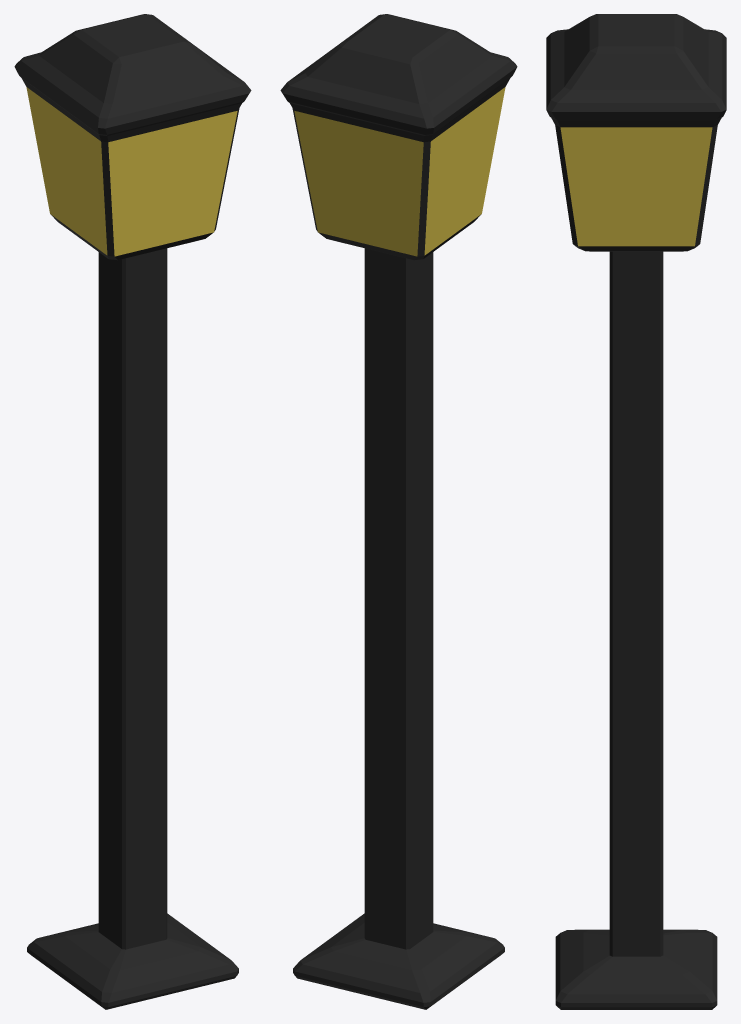
File: farola_anastasia.fbx
3 views of the same model, side by side, from view 1: azimuth 30°, elevation 25°; view 2: azimuth 150°, elevation 25°; view 3: azimuth 270°, elevation 25° (orthographic).
Parts seen in each view (by area): view 1: Cube; view 2: Cube; view 3: Cube.
Part boxes in pixels (box(x1,y1,x2,y2)): Cube: box(14, 14, 251, 1009); Cube: box(280, 14, 517, 1009); Cube: box(546, 14, 726, 1009).
Bounding box in the file's own units: 223 × 1293 × 223.
